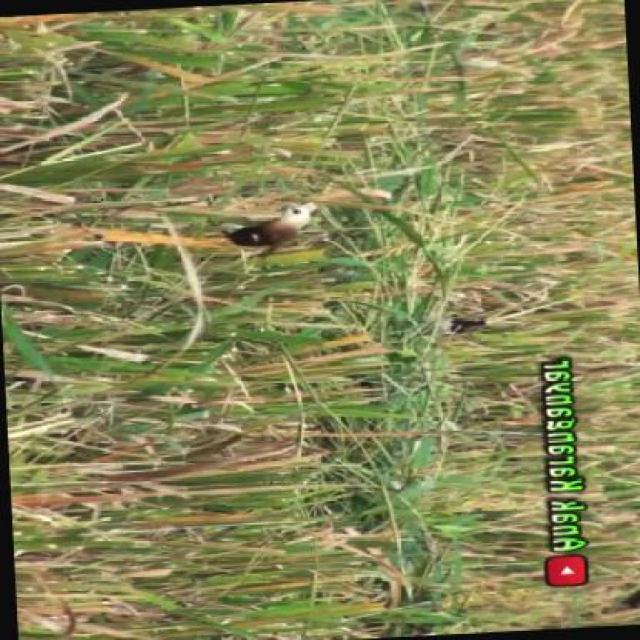Bird: (211, 192, 319, 259)
